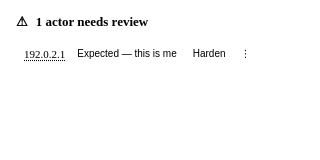
it: TriageBanner › clicking Dismiss in the overflow menu closes the menu
The width and height of the screenshot is (320, 160).
Click the button with test id "triage-chip-overflow-trigger" at [246, 54], box [236,45,256,62]
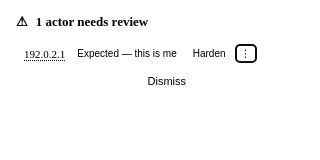
Click the menu item with test id "triage-chip-dismiss" at [196, 81], box [136,70,256,92]
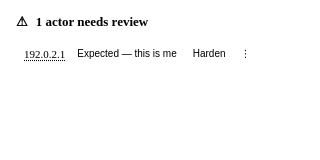
Result: the menu with test id "triage-chip-overflow-menu" is gone
